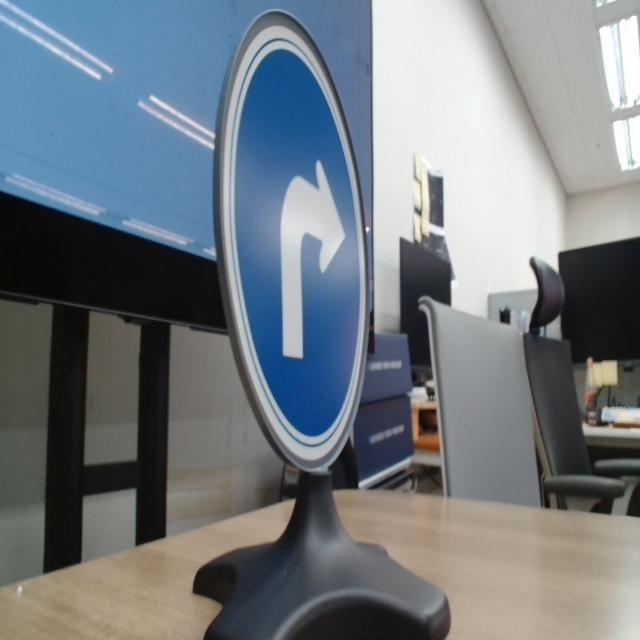right_dierection: (210, 3, 372, 466)
